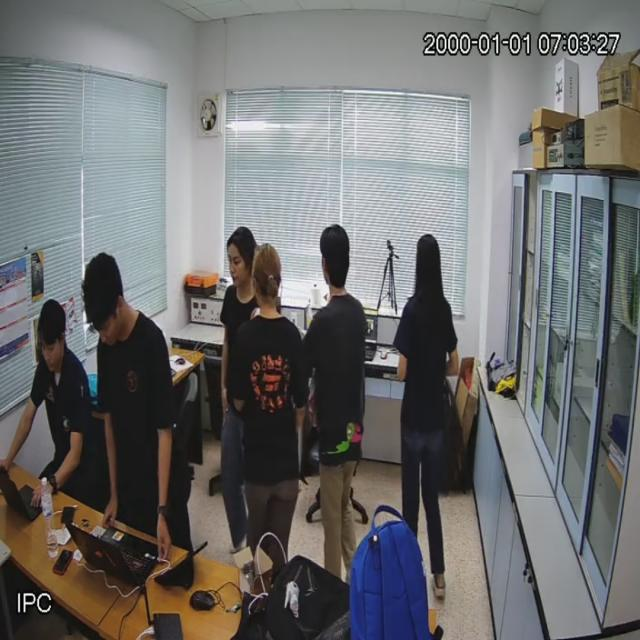normal: (85, 255, 189, 558), (237, 257, 305, 562), (306, 225, 366, 566), (399, 238, 456, 592), (8, 298, 92, 502), (216, 230, 252, 550)
